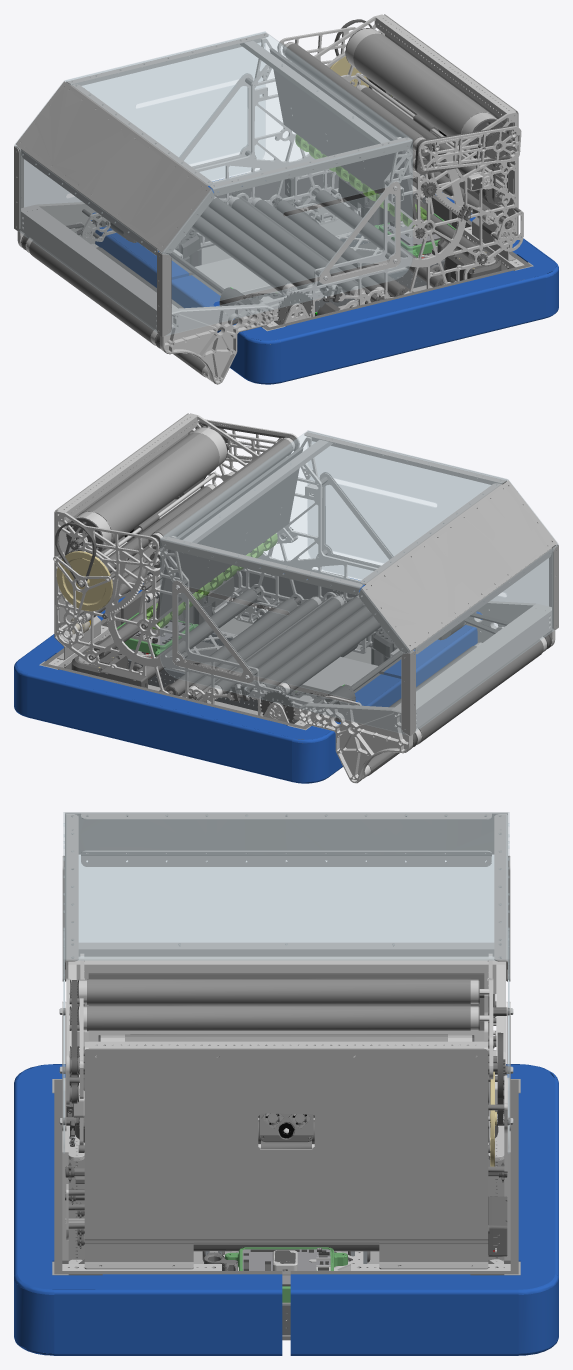
File: robot.glb
3 views of the same model, one above another, from view 1: azimuth 30°, elevation 25°; view 2: azimuth 150°, elevation 25°; view 3: azimuth 270°, elevation 25° (orthographic). The views are drawn at different scales.
Visible parts, largest first — view 1: hopper-glass, chassis-metal, hopper-metal, chassis-bumper, intake-metal, shooter-drum-metal, hood-metal, hood-roller-1-metal, intake-roller-main-metal, feeder-roller-3-metal, feeder-roller-1-metal, feeder-roller-2-metal (+4 smaller); view 2: hopper-glass, chassis-metal, hopper-metal, chassis-bumper, intake-metal, shooter-drum-metal, hood-metal, hood-roller-1-metal, intake-roller-main-metal, shooter-flywheel-metal, feeder-roller-3-metal, feeder-roller-1-metal (+4 smaller); view 3: chassis-metal, hopper-glass, chassis-bumper, hopper-metal, hood-roller-1-metal, hood-roller-2-metal, intake-metal, hood-metal, shooter-drum-metal.
Part boxes in pixels (x1,y1,x2,y2): hopper-glass: (14, 31, 412, 335); chassis-metal: (158, 14, 533, 344); hopper-metal: (14, 33, 412, 336); chassis-bumper: (91, 179, 558, 384); intake-metal: (17, 202, 312, 384); shooter-drum-metal: (353, 33, 494, 150); hood-metal: (277, 27, 521, 222); hood-roller-1-metal: (282, 42, 432, 156); intake-roller-main-metal: (21, 234, 160, 348); feeder-roller-3-metal: (227, 196, 365, 300); feeder-roller-1-metal: (191, 214, 297, 295); feeder-roller-2-metal: (208, 196, 342, 294); hopper-glass: (160, 430, 558, 734); chassis-metal: (39, 413, 414, 743); hopper-metal: (160, 432, 558, 735); chassis-bumper: (14, 578, 481, 783); intake-metal: (260, 601, 555, 783); shooter-drum-metal: (77, 432, 219, 550); hood-metal: (71, 419, 299, 621); hood-roller-1-metal: (148, 435, 297, 549); intake-roller-main-metal: (411, 633, 551, 748); shooter-flywheel-metal: (56, 551, 112, 611); feeder-roller-3-metal: (207, 595, 345, 699); feeder-roller-1-metal: (275, 615, 381, 694); chassis-metal: (52, 953, 520, 1340); hopper-glass: (63, 812, 509, 1153); chassis-bumper: (14, 1064, 558, 1355); hopper-metal: (62, 812, 510, 981); hood-roller-1-metal: (69, 978, 489, 1004); hood-roller-2-metal: (69, 1005, 489, 1031); intake-metal: (67, 956, 505, 1111); hood-metal: (66, 978, 493, 1145); shooter-drum-metal: (125, 1034, 447, 1041).
Bounding box in the file's own units: 1.07 × 0.5525 × 0.8572.
